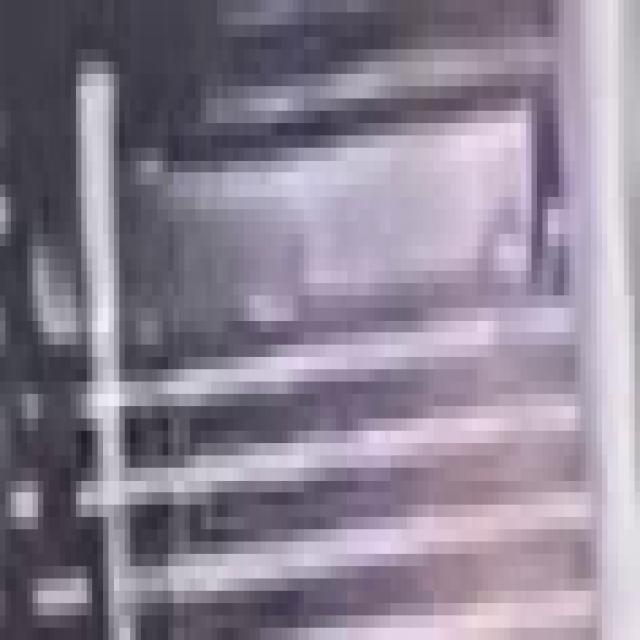stick: (70, 37, 146, 640)
